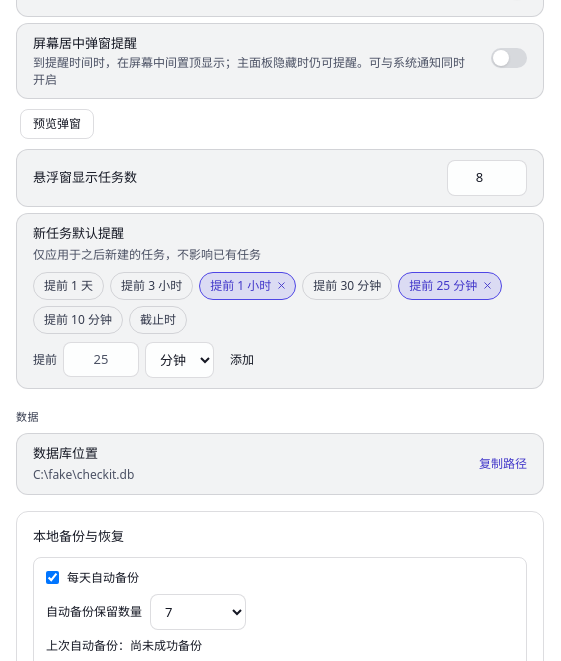
Scenario: SettingsPanel 默认提醒 › 非法输入不触发保存：与任务表单一致
The width and height of the screenshot is (561, 661).
(page scrolled)
Expected: the text "C:\\fake\\checkit.db" is shown, [33,466,134,484]
Type "61" into the field named "自定义提前量数值" at [101, 360], box [63,342,139,377]
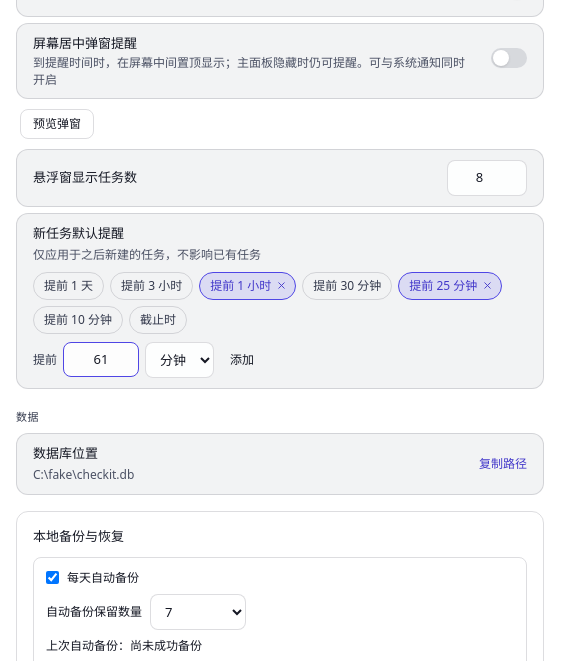
Select "天" in the dropdown named "提前量单位" at [180, 360], box [145,342,214,378]
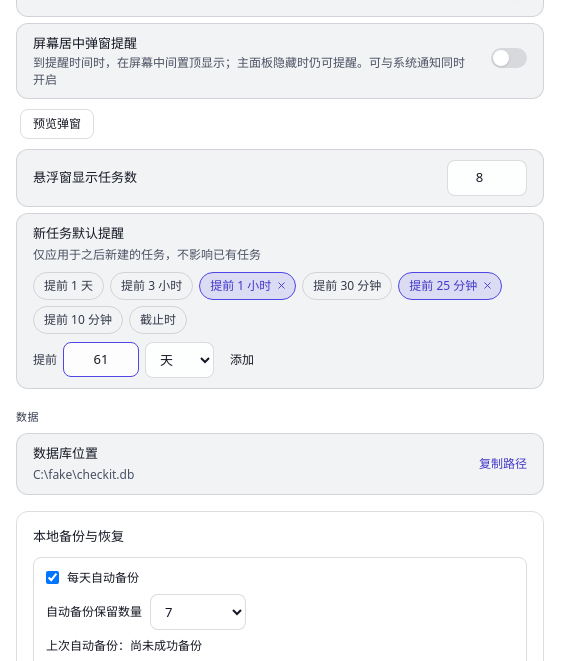
Click the button "添加" at [242, 360], box [220,348,264,372]
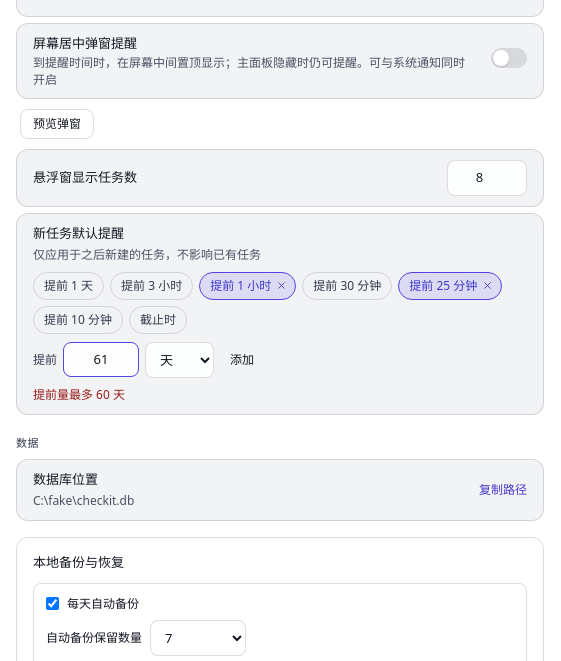
Result: the text "提前量最多 60 天" is shown at [33,386,125,402]
